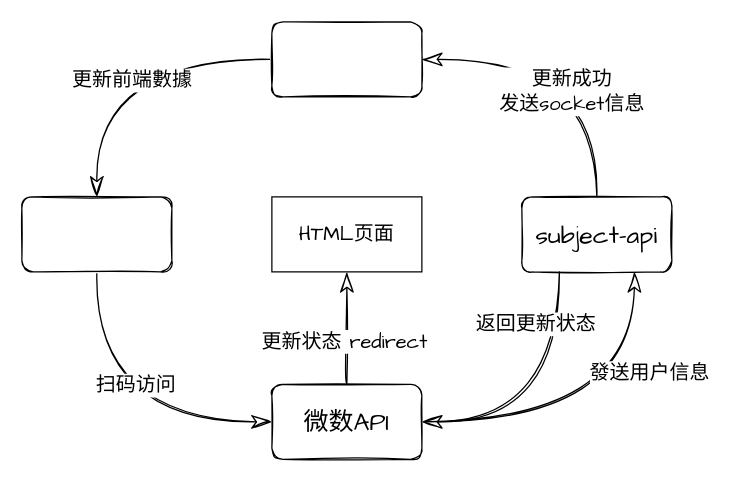
This 730x481 diagram has some shape labels left out. Each missing label, with the centre of its shape:
eMiner: the point at 96,234
socket: the point at 346,59
